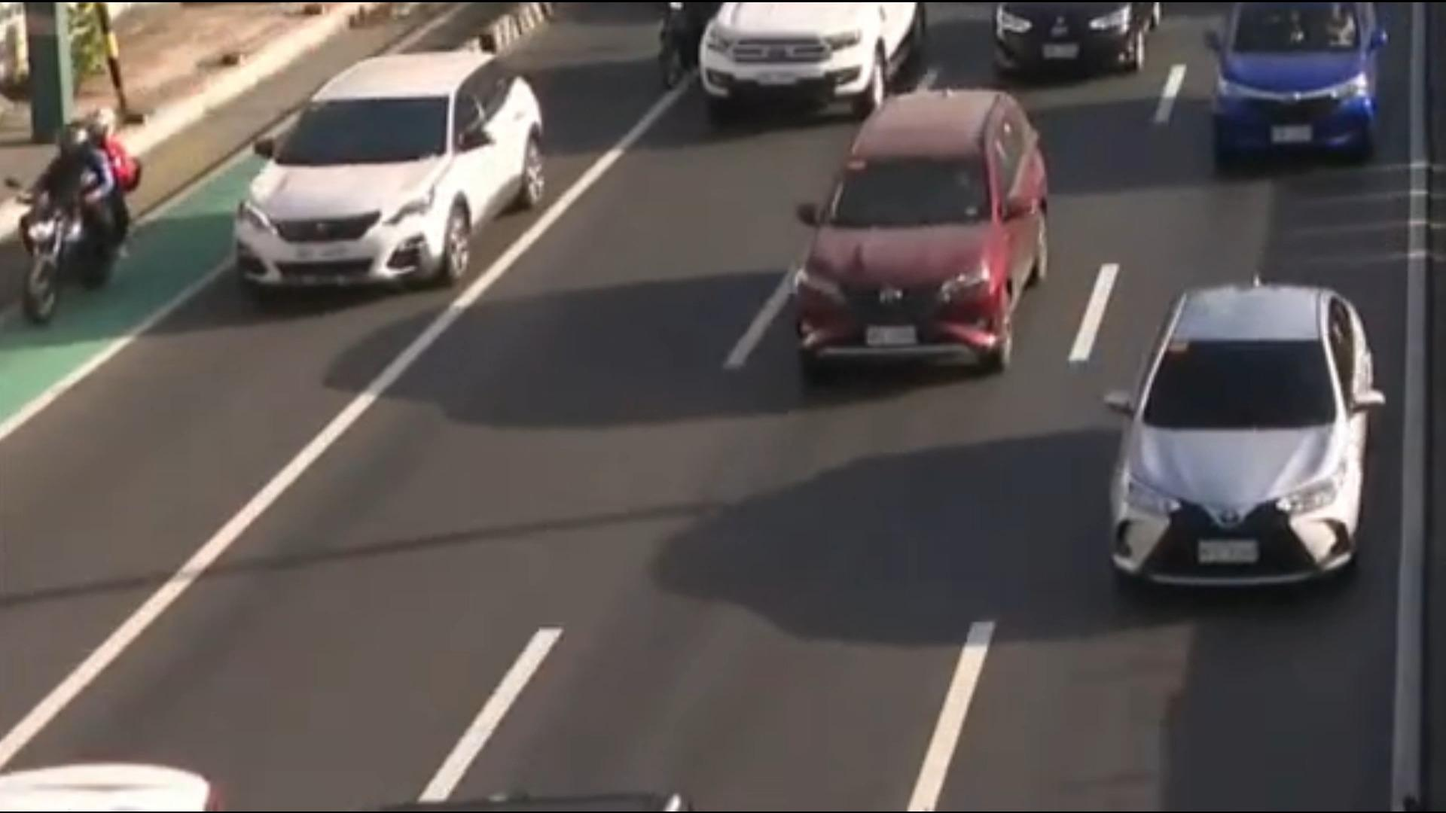Motorcycle: (0, 77, 149, 338)
SUV: (727, 74, 1081, 418), (220, 21, 563, 332)
Sedan: (1066, 253, 1429, 614), (1191, 0, 1407, 196)
